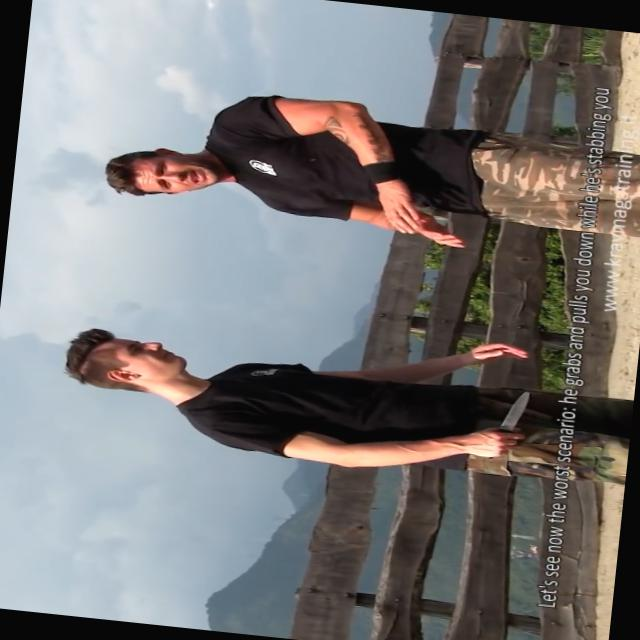knife: (474, 379, 542, 463)
